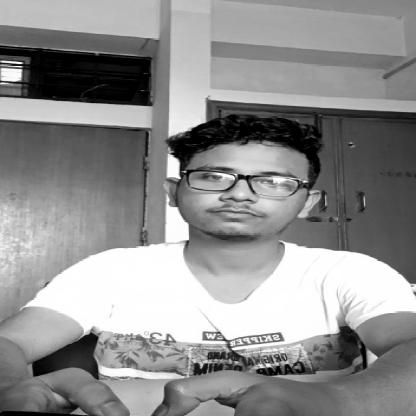Normal: (147, 118, 319, 238)
